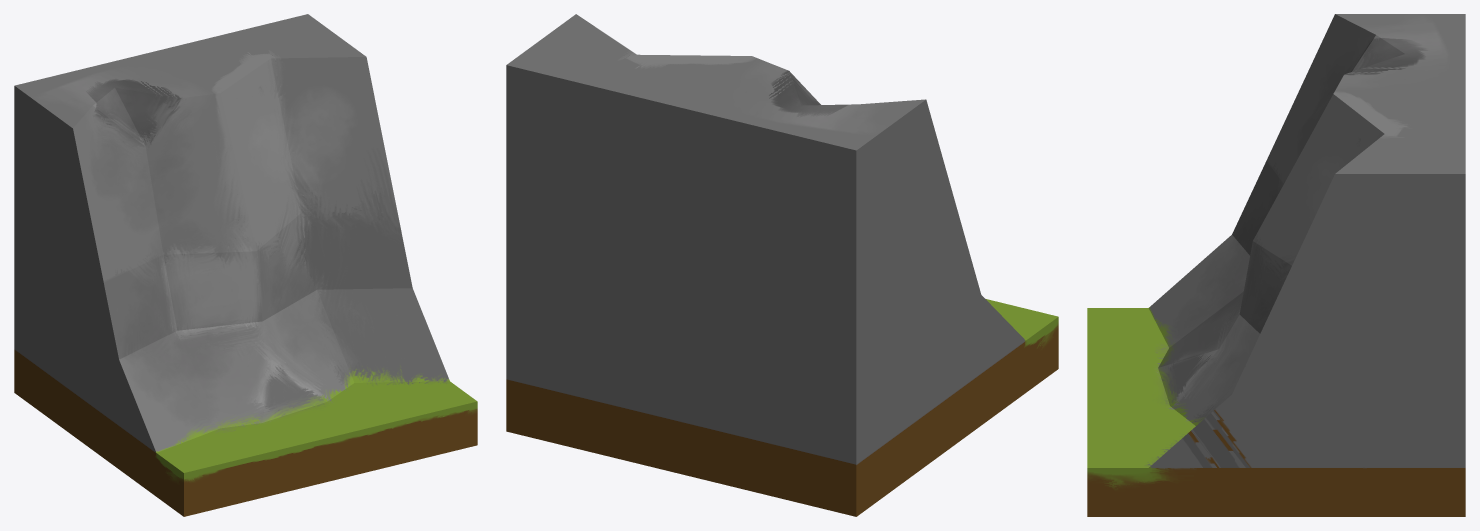
Rendered from mountain2.fbx.
The picture shows the model from 3 angles, left to right: view 1: azimuth 30°, elevation 25°; view 2: azimuth 150°, elevation 25°; view 3: azimuth 270°, elevation 25°; orthographic projection. The views are drawn at different scales.
Parts seen in each view (by area): view 1: Mountain2; view 2: Mountain2; view 3: Mountain2.
Boxes of the visible parts, left/top/right/bottom form: Mountain2: left=14, top=14, right=477, bottom=516; Mountain2: left=506, top=14, right=1058, bottom=516; Mountain2: left=1087, top=14, right=1465, bottom=516.
Bounding box in the file's own units: 200 × 200 × 200.
Materials: 1 (1 with a texture image).
